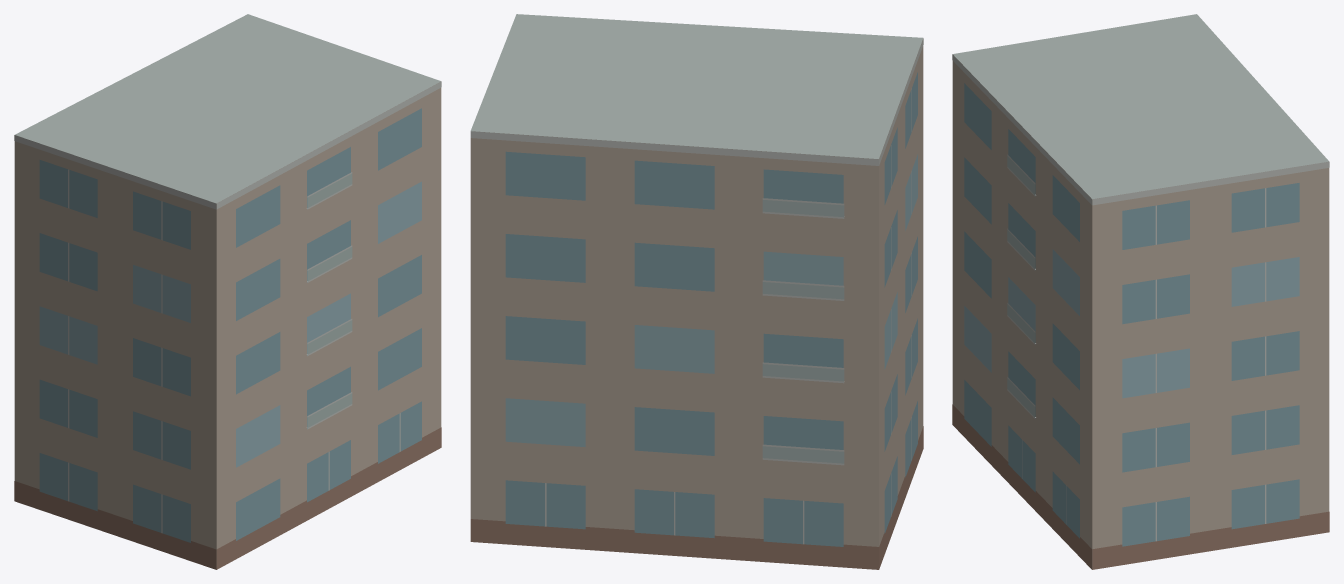
The model's file is survey-upis-32994378.glb.
The picture shows the model from 3 angles, left to right: view 1: azimuth 30°, elevation 25°; view 2: azimuth 150°, elevation 25°; view 3: azimuth 270°, elevation 25°; orthographic projection. The views are drawn at different scales.
Parts seen in each view (by area): view 1: survey-upis-32994378.tmp; view 2: survey-upis-32994378.tmp; view 3: survey-upis-32994378.tmp.
Part boxes in pixels (x1,y1,x2,y2): survey-upis-32994378.tmp: (14, 14, 441, 569); survey-upis-32994378.tmp: (470, 14, 923, 569); survey-upis-32994378.tmp: (952, 14, 1329, 569).
Bounding box in the file's own units: 15.55 × 14.5 × 13.38.
